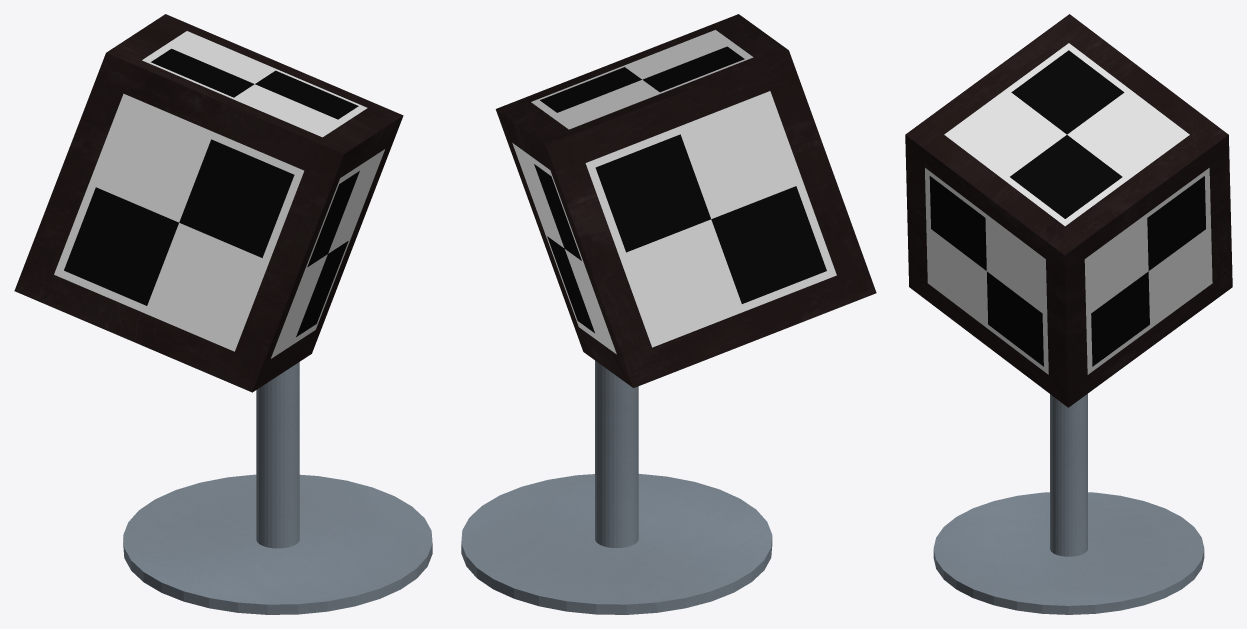
Rendered from Würfel_deko.fbx.
The picture shows the model from 3 angles, left to right: view 1: azimuth 30°, elevation 25°; view 2: azimuth 150°, elevation 25°; view 3: azimuth 270°, elevation 25°; orthographic projection. The views are drawn at different scales.
Parts seen in each view (by area): view 1: Würfel_deko; view 2: Würfel_deko; view 3: Würfel_deko.
Boxes of the visible parts, x1,y1,x2,y2 form: Würfel_deko: (14,14,432,614); Würfel_deko: (461,14,876,614); Würfel_deko: (905,14,1232,614).
Size of the model in its own units: 52.28 by 68.05 by 42.92.
